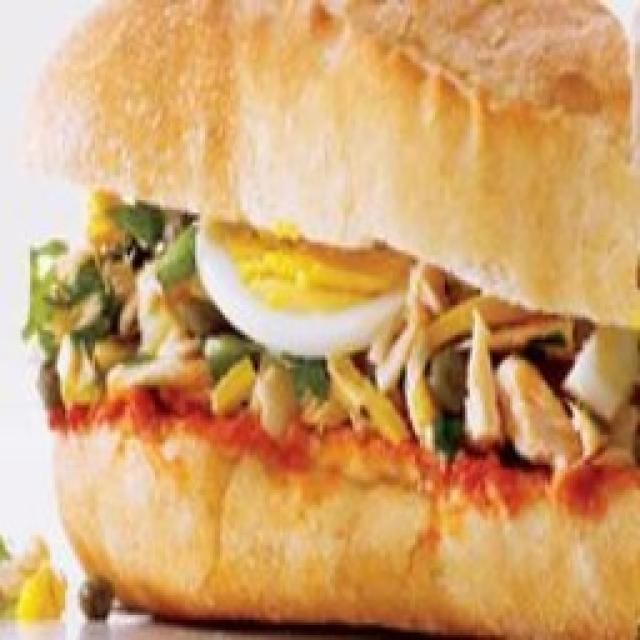Sandwitch tounsi: (26, 2, 640, 640)
